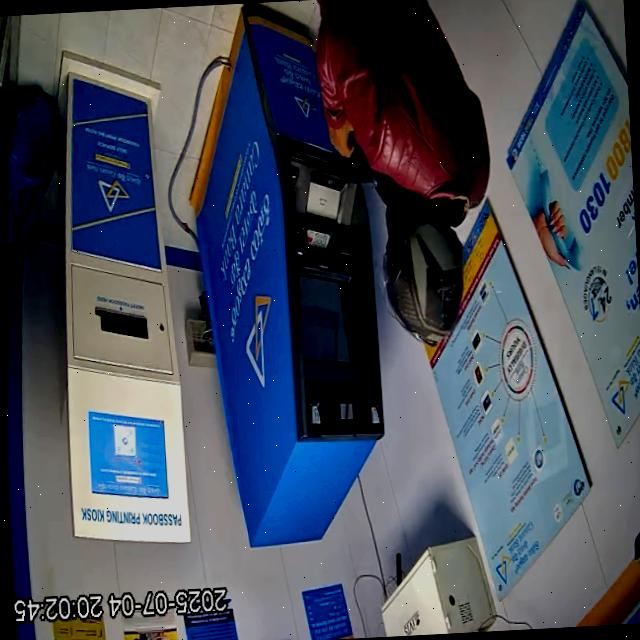helmet: (380, 197, 465, 346)
